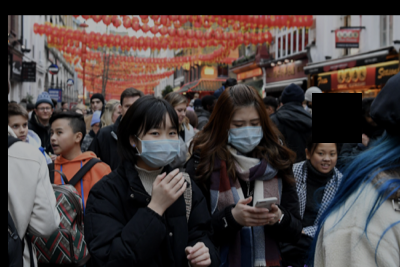with_mask: (140, 123, 181, 167), (228, 116, 263, 154)
without_mask: (49, 124, 73, 155), (311, 146, 338, 173), (9, 120, 29, 140), (37, 103, 53, 120), (174, 106, 187, 123), (90, 100, 103, 111)
